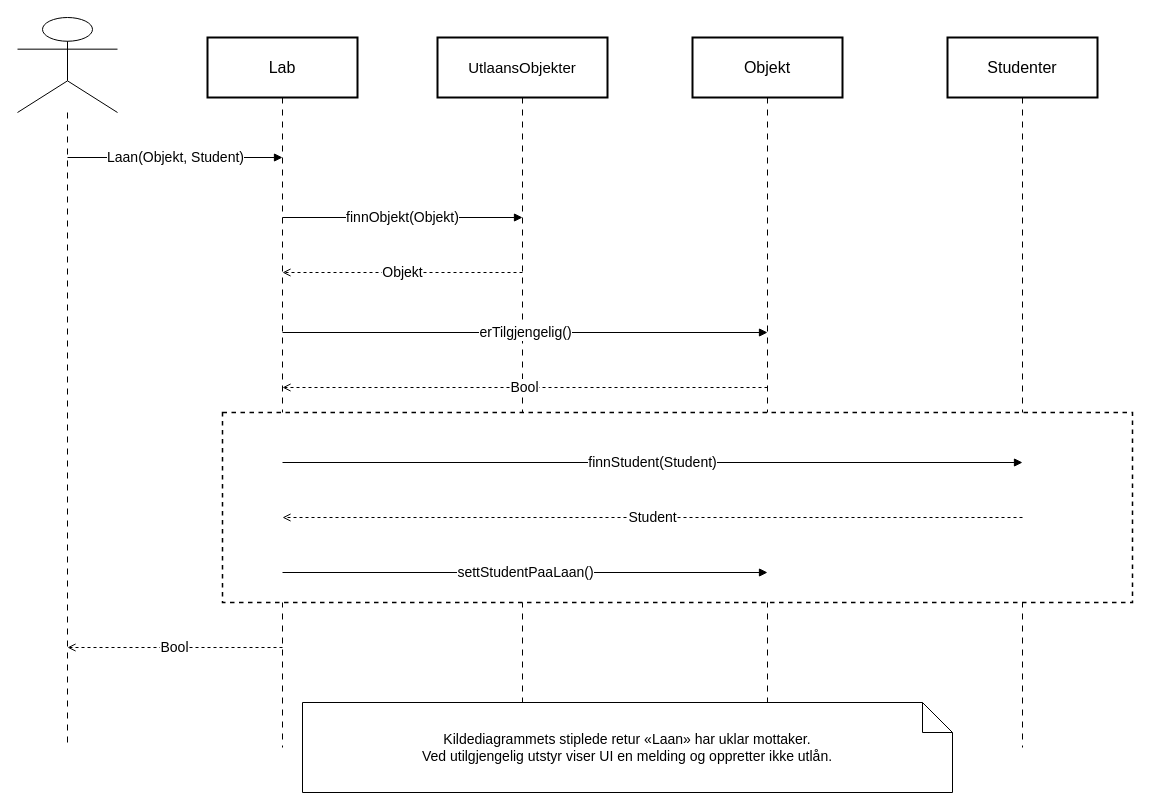
This 1151x810 diagram has some shape labels left out. The centre of each missing label's shape, as x and y in pixels:
alt Objekt er tilgjengelig: the point at 677,507
Lab Ansatt: the point at 67,64
